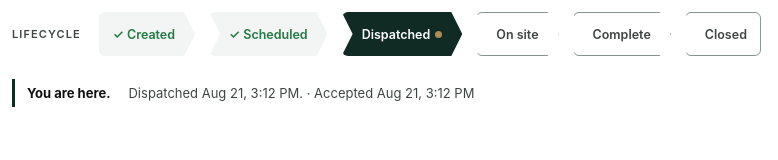
Test: LifecycleBand › opening another stage shows THAT stage’s fact, and only one at a time
The image size is (778, 160).
Click the button "Closed". click: (723, 34)
box: 685,12 -> 761,56
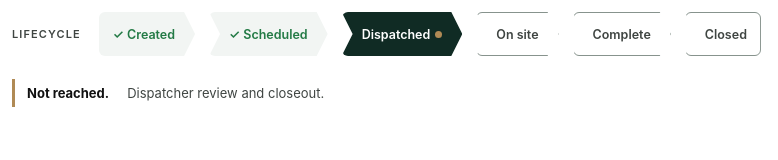
Result: the text "Not reached." is shown at 27,85 -> 109,101
Result: the text "You are here." is gone
